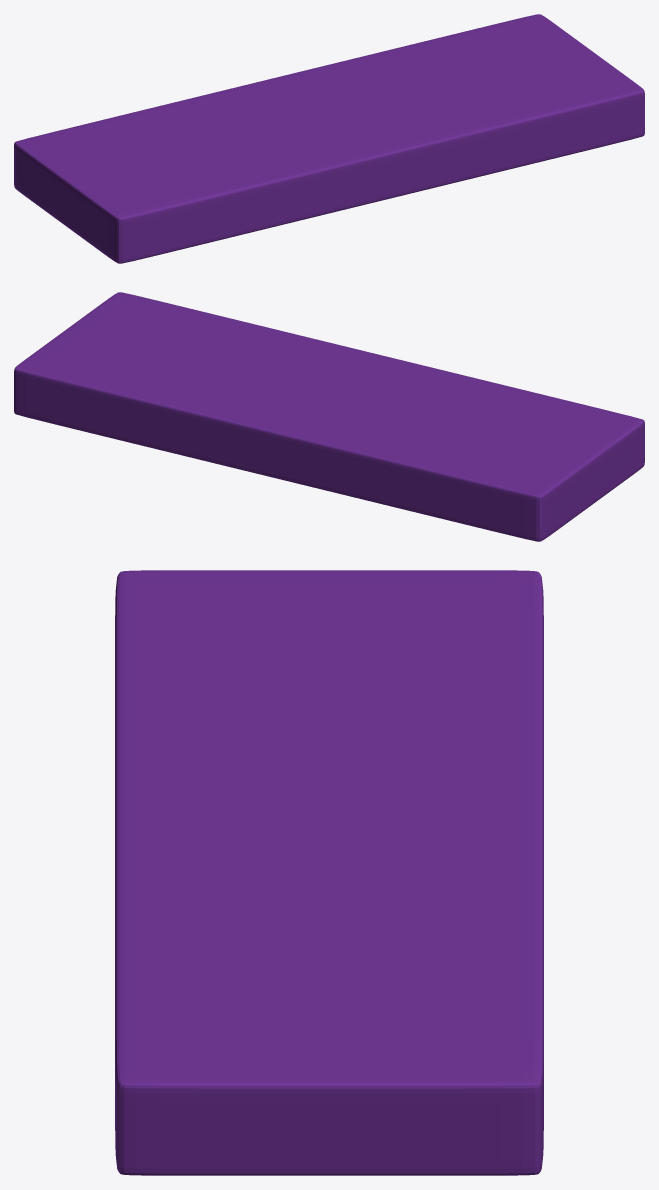
The picture shows the model from 3 angles, top to bottom: view 1: azimuth 30°, elevation 25°; view 2: azimuth 150°, elevation 25°; view 3: azimuth 270°, elevation 25°; orthographic projection. The views are drawn at different scales.
Visible parts, largest first — view 1: Box; view 2: Box; view 3: Box.
Boxes of the visible parts, x1,y1,x2,y2 form: Box: (14, 14, 644, 263); Box: (14, 292, 644, 541); Box: (115, 570, 543, 1175).
Bounding box in the file's own units: 1652 × 140 × 580.
